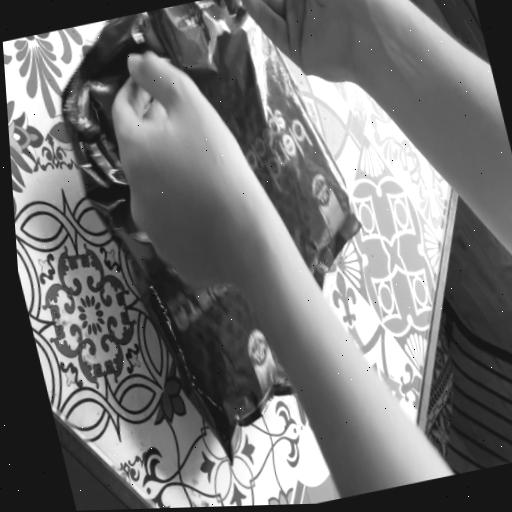cafe_hat: (61, 12, 291, 456)
cafe_xay: (146, 0, 357, 284)
